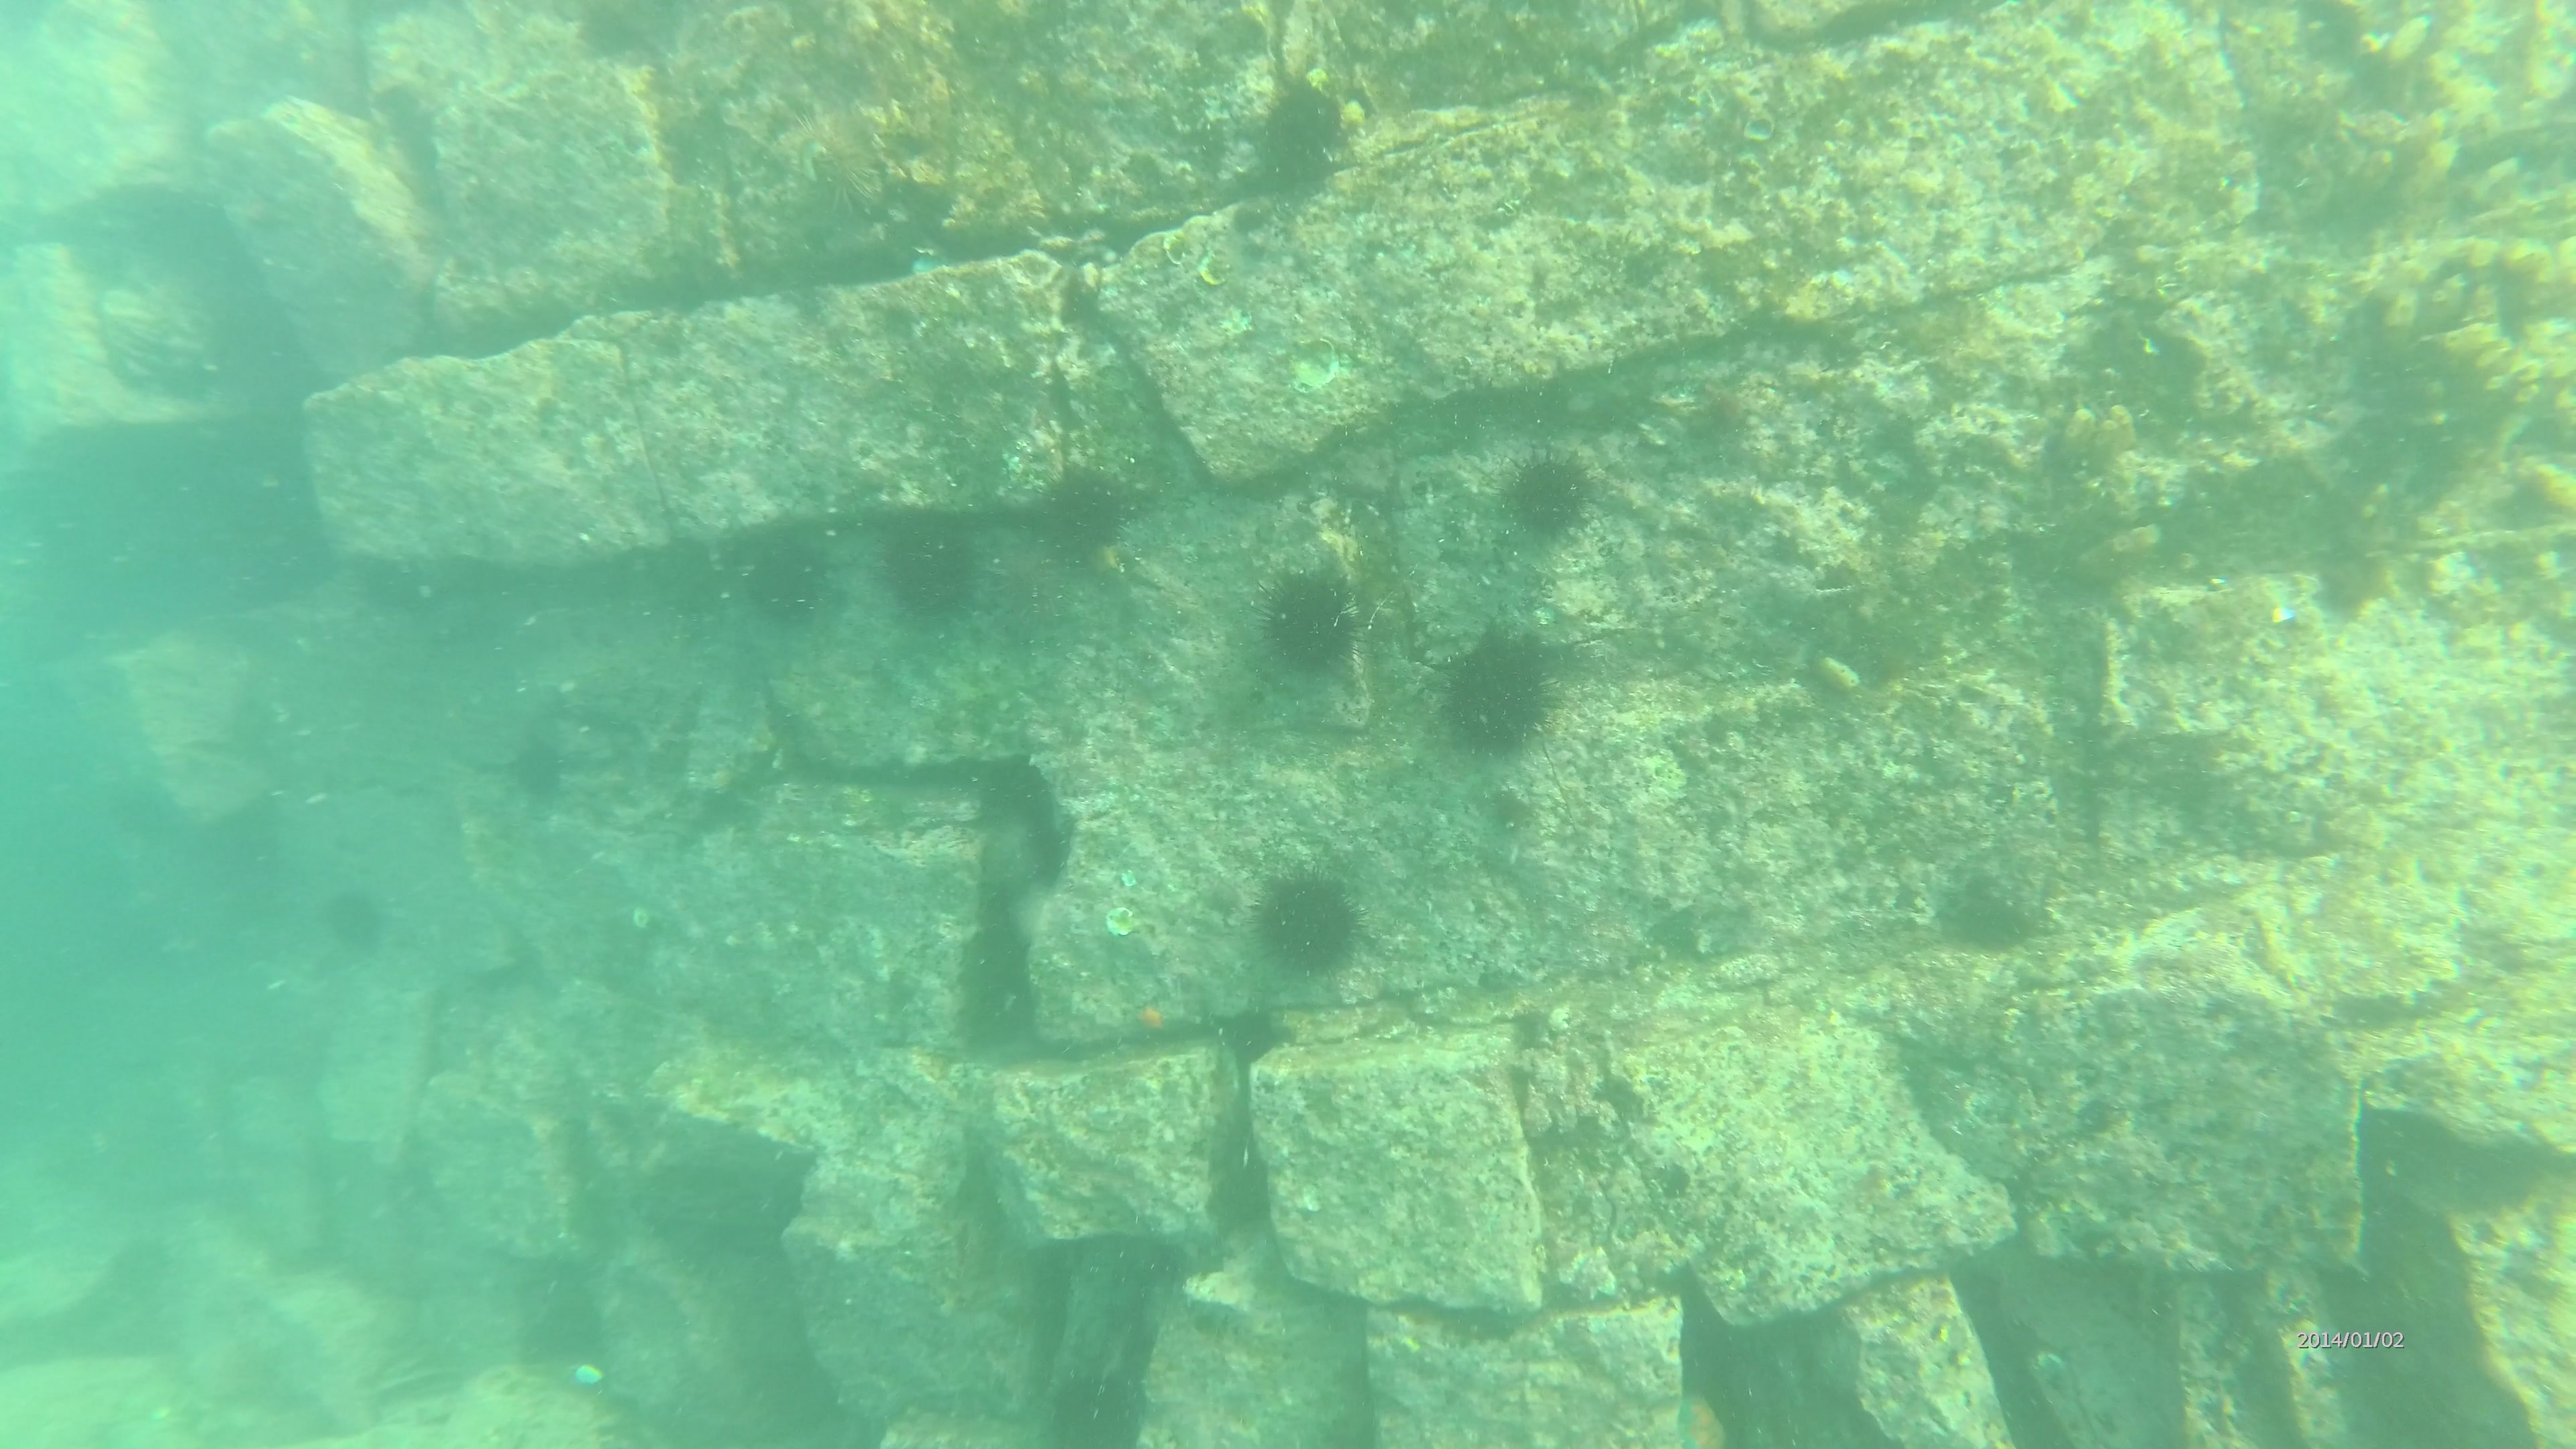echinus: (1435, 621, 1562, 755), (1030, 456, 1175, 571), (1253, 566, 1373, 674), (1491, 444, 1606, 547), (1256, 876, 1369, 975), (881, 501, 980, 609), (741, 531, 840, 625), (989, 538, 1076, 642), (1254, 83, 1343, 184), (322, 897, 387, 955)
